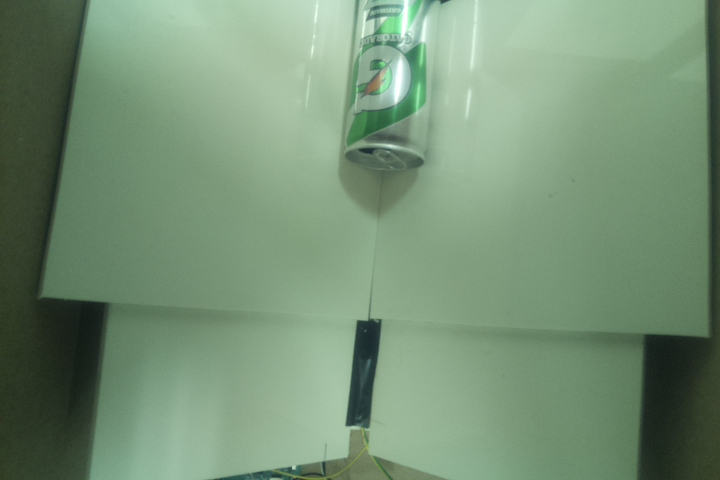can: (341, 1, 438, 175)
